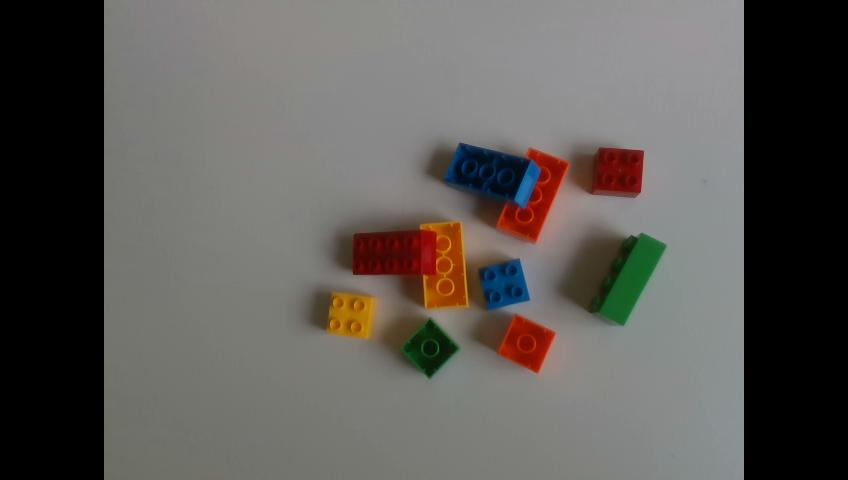2x2_blue: (480, 260, 532, 308)
2x2_green: (402, 313, 459, 377)
2x2_orange: (497, 315, 555, 371)
2x2_red: (593, 147, 643, 194)
2x2_yellow: (327, 291, 376, 336)
4x2_blue: (447, 142, 538, 206)
4x2_green: (592, 234, 666, 324)
4x2_orange: (497, 144, 571, 246)
4x2_red: (350, 230, 437, 274)
4x2_yellow: (424, 222, 467, 308)
